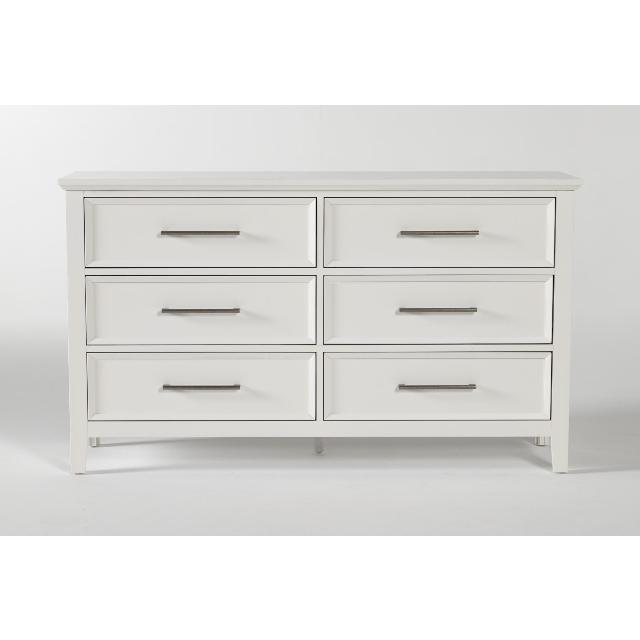dresser: (57, 161, 584, 469)
